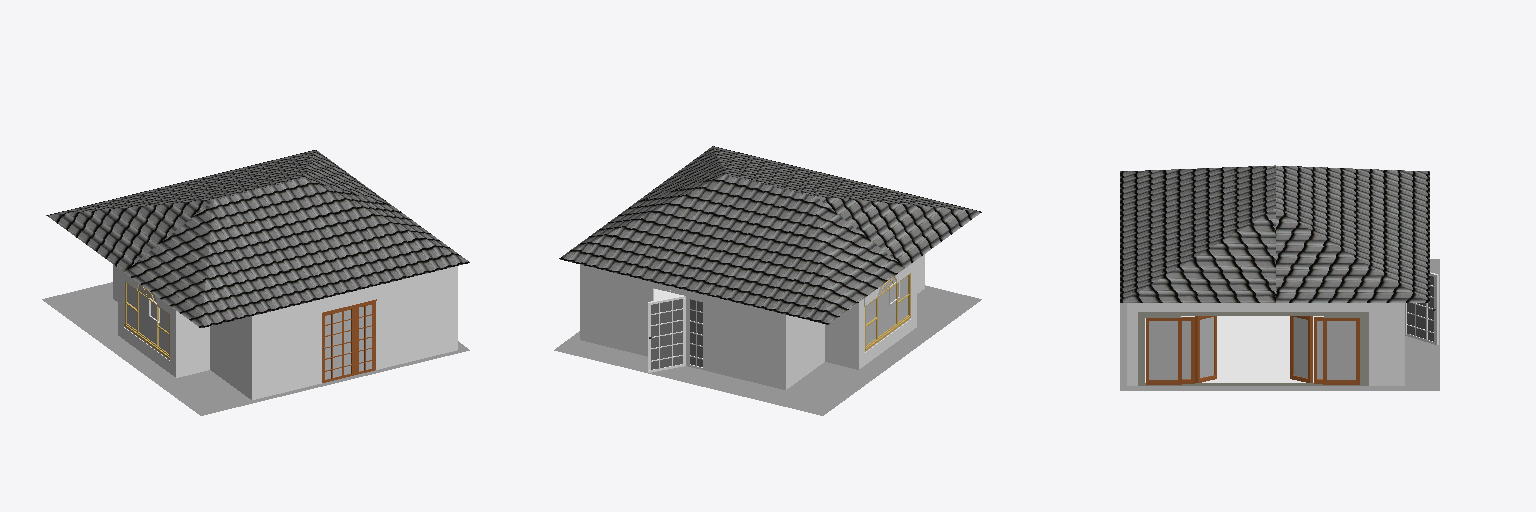
The picture shows the model from 3 angles: view 1: azimuth 30°, elevation 25°; view 2: azimuth 150°, elevation 25°; view 3: azimuth 270°, elevation 25°; orthographic projection.
Visible parts, largest first — view 1: PolyMesh_1_None_None_158, wall_5_29, PolyMesh_1_None_None_157, ground_1, wall_4_23, wall_3_17, wall_2_11, sweethome3d_window_pane_100, sweethome3d_window_pane_61, sweethome3d_window_pane_1_116; view 2: PolyMesh_1_None_None_157, wall_7_41, PolyMesh_1_None_None_158, ground_1, wall_8_47, sweethome3d_window_pane_130, wall_1_5, wall_2_11, sweethome3d_window_pane_1_146, sweethome3d_window_pane_61; view 3: PolyMesh_1_None_None_158, PolyMesh_1_None_None_157, wall_6_35, room_9_50, ground_1, Cube_6_89, sweethome3d_window_pane_4_87, sweethome3d_window_pane_5_88, sweethome3d_window_pane_130, sweethome3d_window_pane_1_84, sweethome3d_window_pane_2_85, Cube_2_93 (+3 smaller).
Part boxes in pixels (bbox=[...]): PolyMesh_1_None_None_158: bbox=[124, 178, 469, 327]; wall_5_29: bbox=[252, 266, 457, 399]; PolyMesh_1_None_None_157: bbox=[46, 150, 391, 271]; ground_1: bbox=[42, 282, 469, 415]; wall_4_23: bbox=[210, 316, 251, 399]; wall_3_17: bbox=[176, 311, 209, 377]; wall_2_11: bbox=[118, 268, 175, 376]; sweethome3d_window_pane_100: bbox=[325, 310, 350, 379]; sweethome3d_window_pane_61: bbox=[139, 293, 156, 344]; sweethome3d_window_pane_1_116: bbox=[359, 305, 371, 371]; PolyMesh_1_None_None_157: bbox=[559, 174, 904, 324]; wall_7_41: bbox=[580, 265, 785, 389]; PolyMesh_1_None_None_158: bbox=[637, 146, 981, 267]; ground_1: bbox=[554, 285, 981, 415]; wall_8_47: bbox=[786, 315, 824, 389]; sweethome3d_window_pane_130: bbox=[651, 299, 682, 369]; wall_1_5: bbox=[825, 303, 858, 369]; wall_2_11: bbox=[859, 260, 916, 368]; sweethome3d_window_pane_1_146: bbox=[690, 299, 702, 366]; sweethome3d_window_pane_61: bbox=[878, 285, 895, 336]; PolyMesh_1_None_None_158: bbox=[1120, 165, 1275, 302]; PolyMesh_1_None_None_157: bbox=[1276, 166, 1429, 302]; wall_6_35: bbox=[1127, 303, 1404, 385]; room_9_50: bbox=[1145, 316, 1323, 382]; ground_1: bbox=[1120, 259, 1439, 390]; Cube_6_89: bbox=[1138, 312, 1368, 385]; sweethome3d_window_pane_4_87: bbox=[1327, 321, 1355, 379]; sweethome3d_window_pane_5_88: bbox=[1149, 321, 1177, 379]; sweethome3d_window_pane_130: bbox=[1407, 276, 1433, 341]; sweethome3d_window_pane_1_84: bbox=[1200, 317, 1213, 377]; sweethome3d_window_pane_2_85: bbox=[1294, 317, 1307, 377]; Cube_2_93: bbox=[1323, 317, 1359, 384].
Size of the model in its own units: 799 by 390 by 818.
Materials: 14 (1 with a texture image).